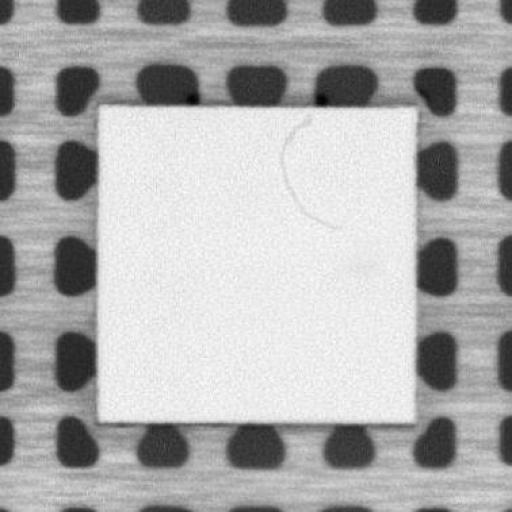DIE_CRACK: (274, 110, 336, 230)
